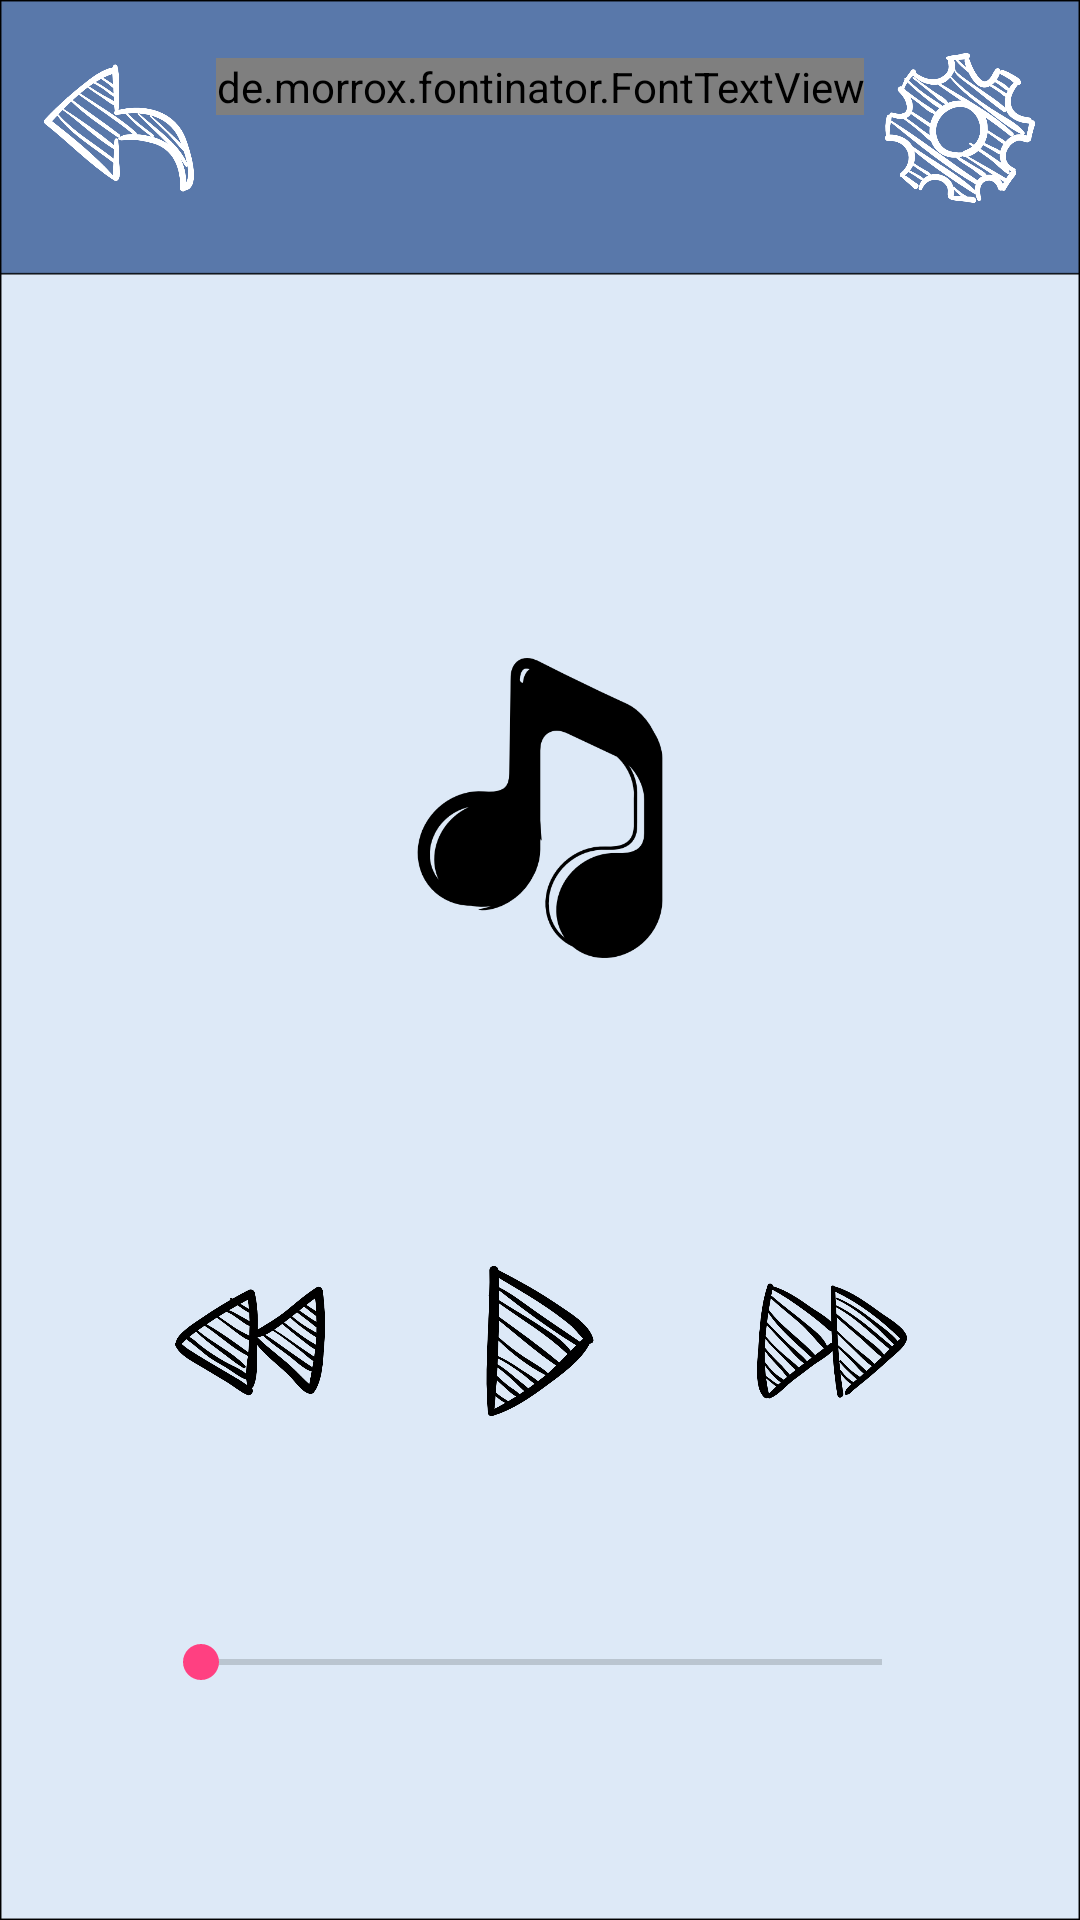

Icons on this 1080×1920 Android screen, each with its box as rect(x1, y1, x2, y2):
next: rect(757, 1283, 907, 1399)
play: rect(486, 1266, 594, 1416)
previous: rect(175, 1286, 325, 1396)
return back: rect(44, 64, 194, 192)
setting: rect(885, 53, 1035, 203)
音樂治療: rect(417, 658, 663, 958)
